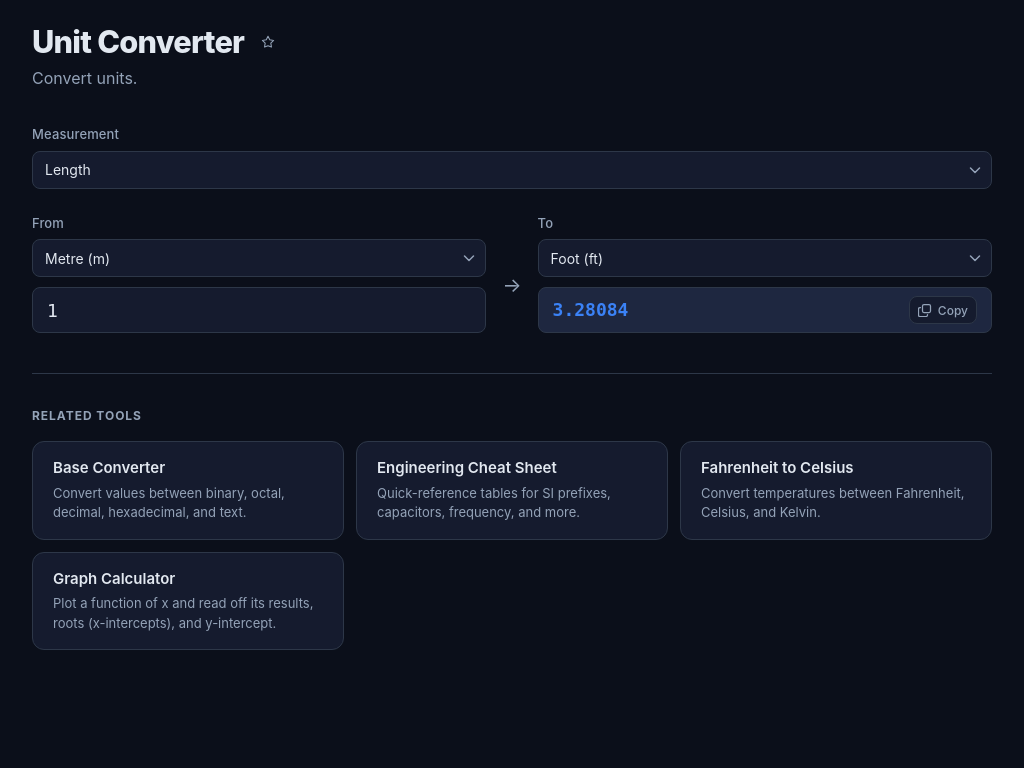
Test: UnitConverter › converts temperature correctly
Select "Temperature" in the dropdown labelled "Measurement" at coordinates (512, 170), box [32,150,992,188]
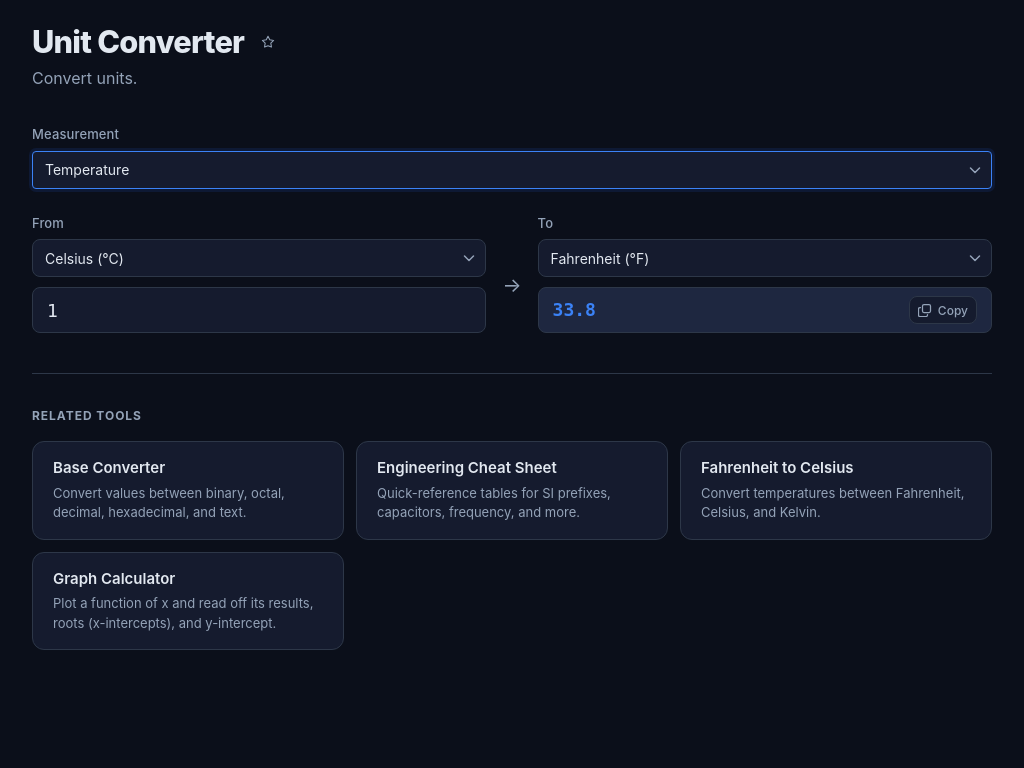
Replace the text in the number field named "Value to convert" with "100" at coordinates (259, 310), box [32,287,486,333]
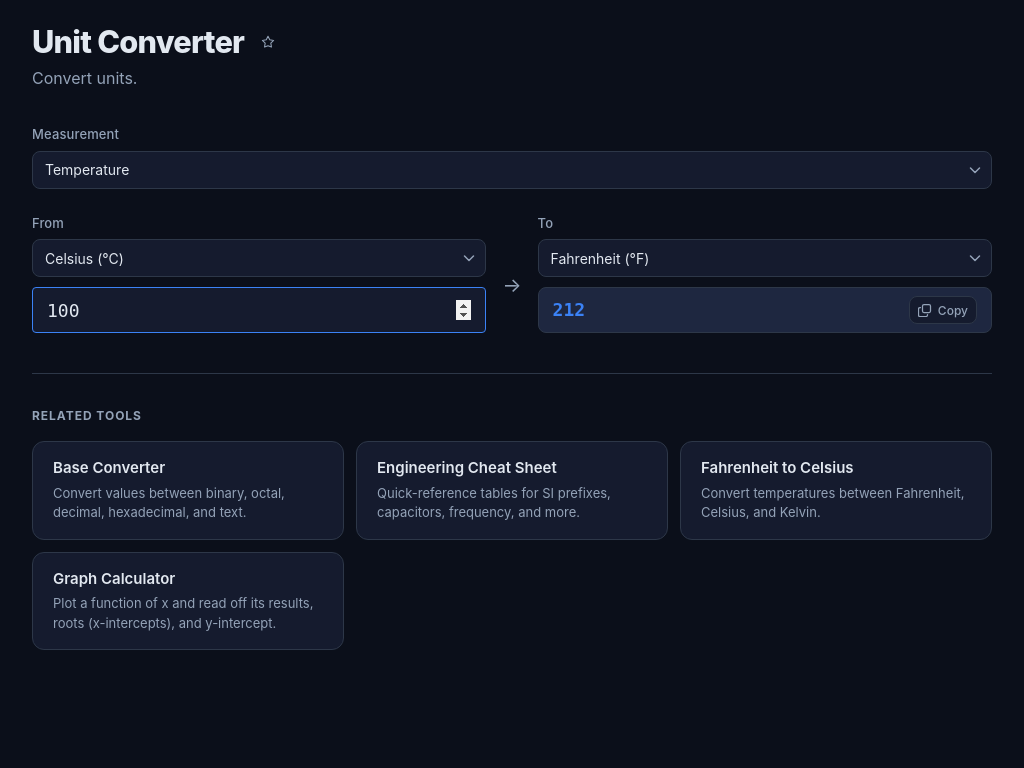
Check: the text "212" is shown, box [552,296,585,325]
